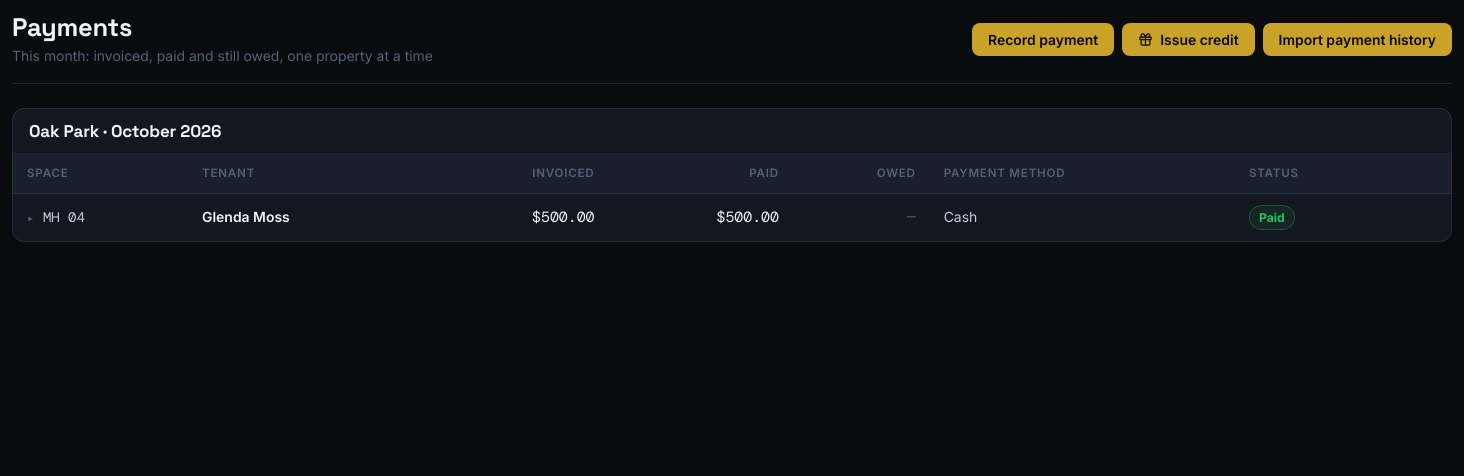
Test case: click the row for its payments and charges; click the name for the report › the row opens each payment (date, amount, method) and every charge with what it is for, and closes again
Click the row "▸ MH 04 Glenda Moss $500.00 $500.00 — Cash Paid" at (732, 217), box [13, 193, 1451, 241]
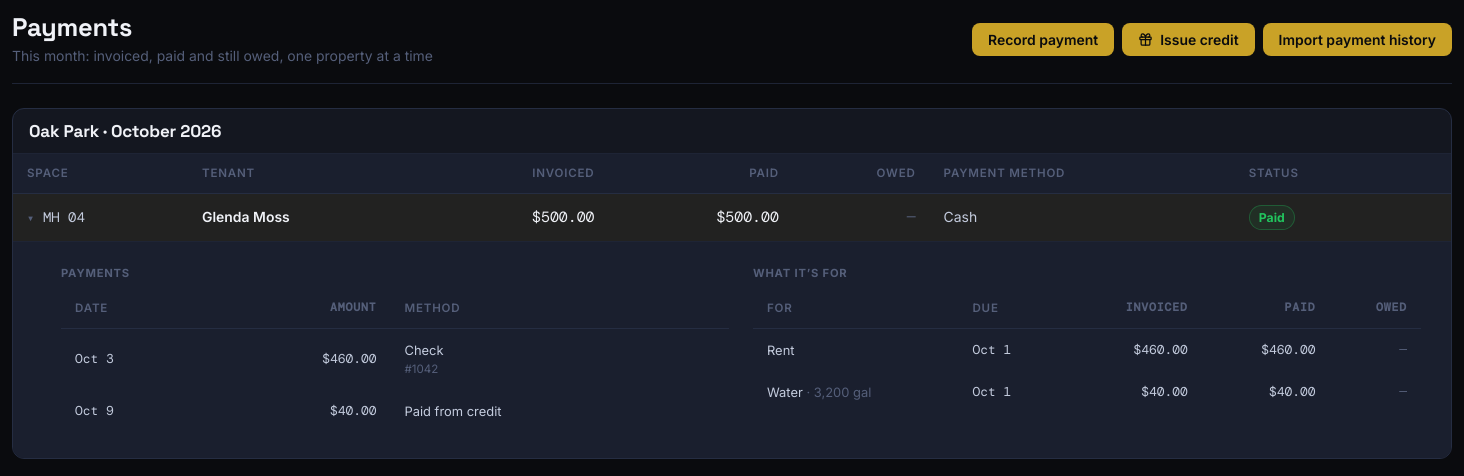
Click the row "▾ MH 04 Glenda Moss $500.00 $500.00 — Cash Paid" at (732, 218), box [13, 193, 1451, 242]
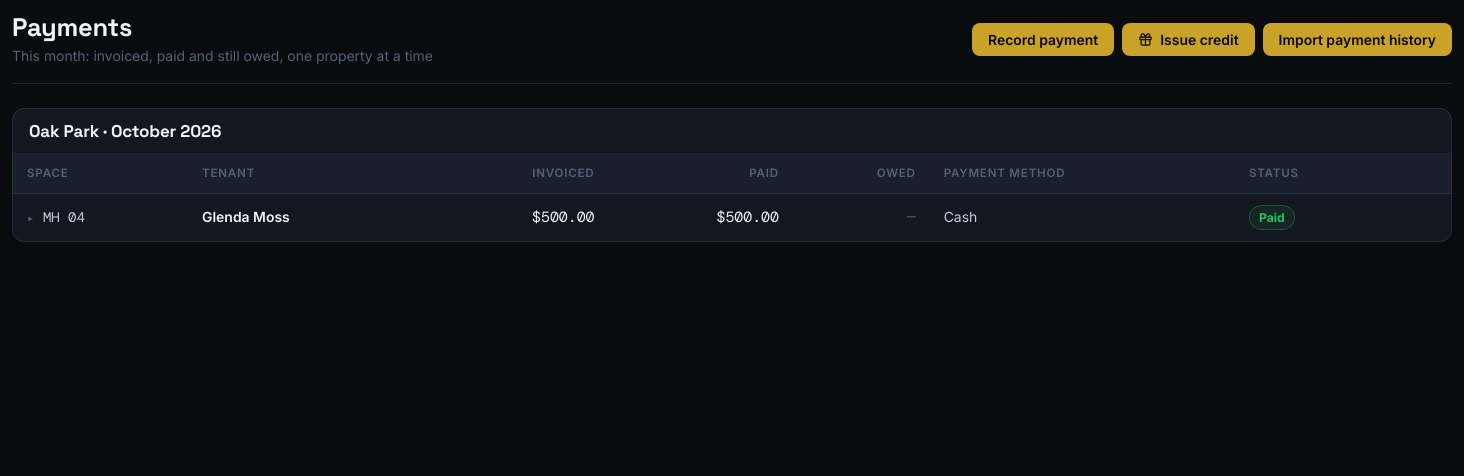
Check: the row is gone
